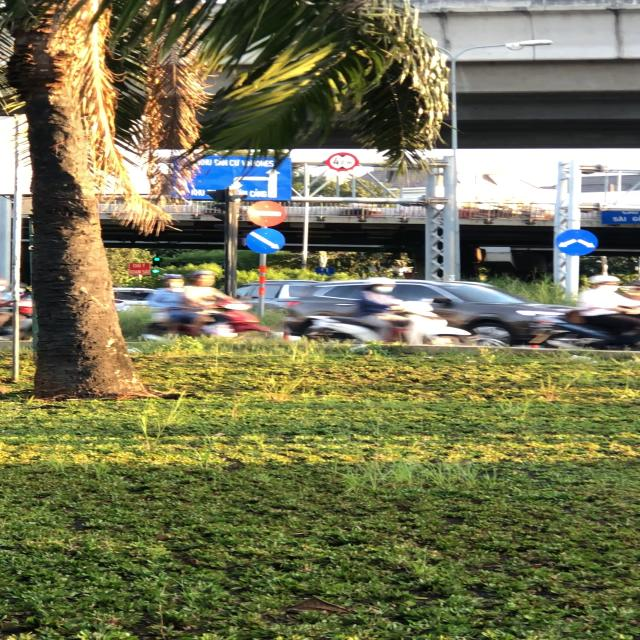Bien bao cam di nguoc chieu: (246, 199, 288, 227)
Bien bao han che chieu cao: (325, 151, 361, 172)
Bien bao huong phai di vong chuong ngai vat: (240, 227, 288, 256), (554, 226, 602, 255)
